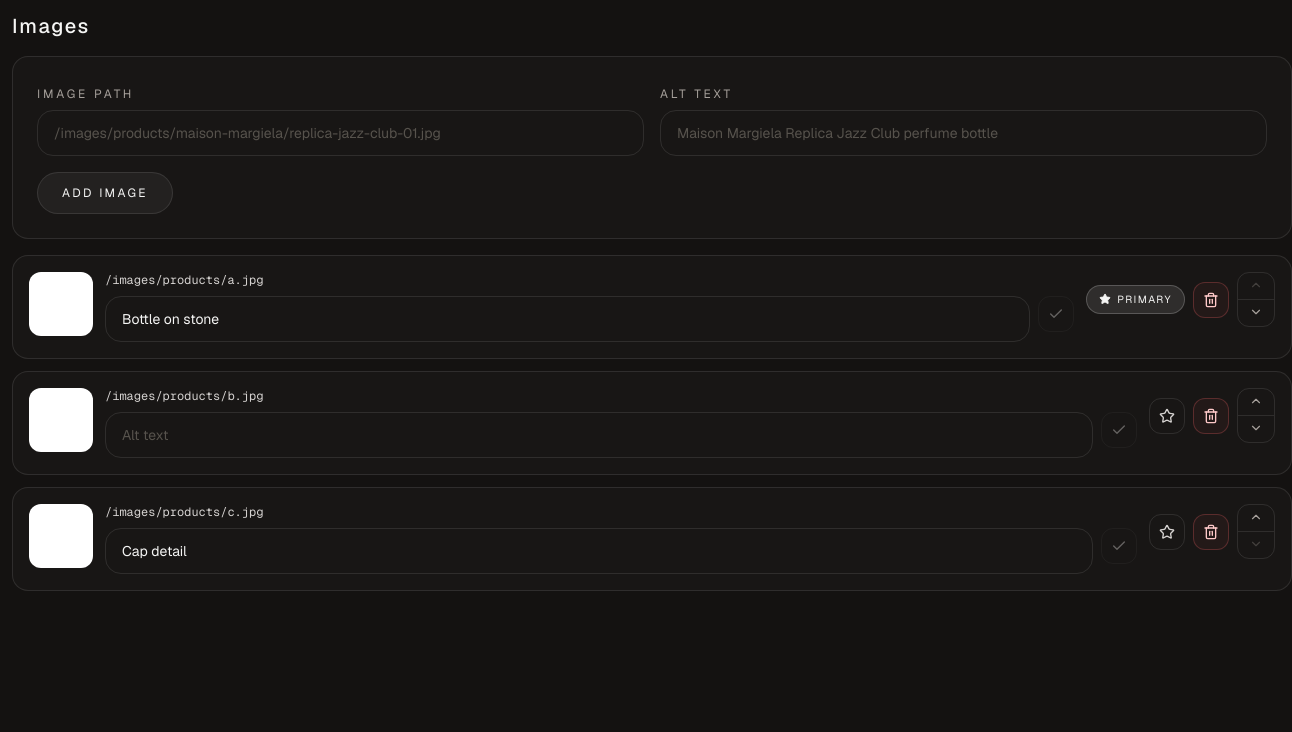
Test case: adding an image › keeps what was typed when the add is refused
The width and height of the screenshot is (1292, 732).
In the field labelled "Image path": (340, 133) [37, 110, 644, 156], type "not-a-path"
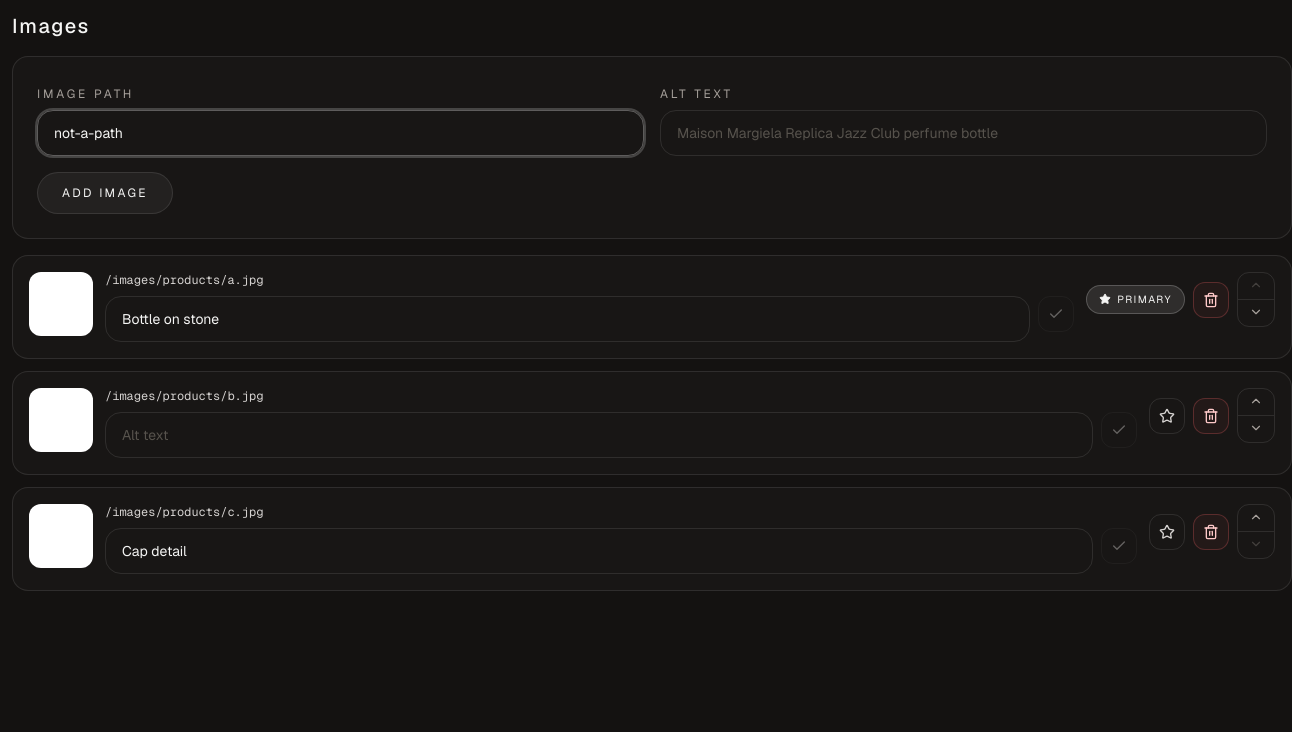
Click the button "Add image": (105, 193) [37, 172, 173, 214]
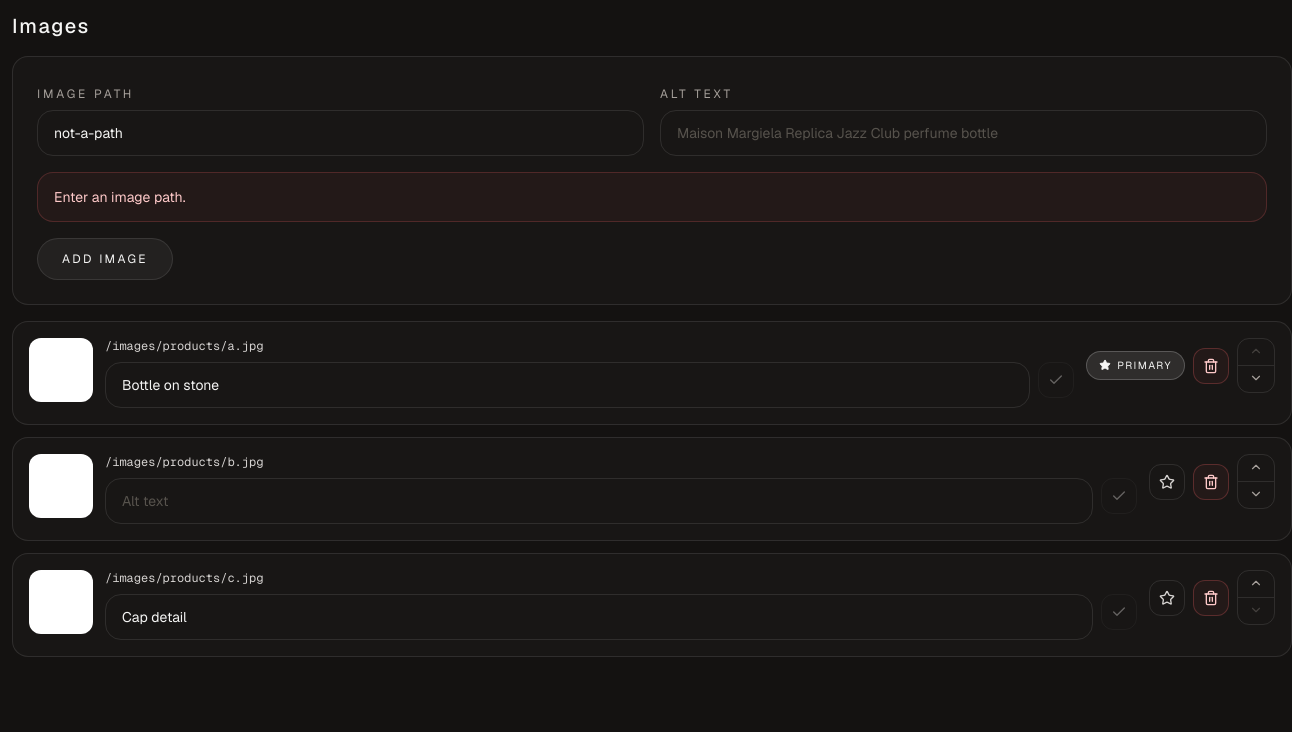
Expected: the message reads "Enter an image path.", [54, 188, 186, 206]
